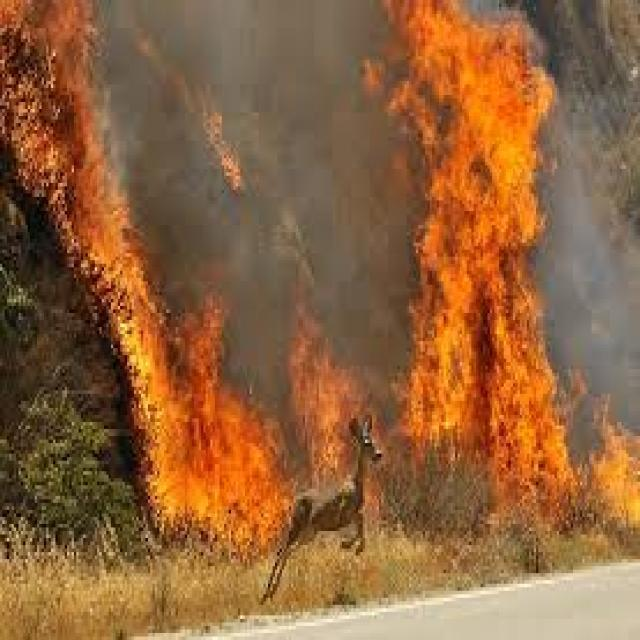Fire: (402, 5, 562, 487), (136, 314, 276, 554), (9, 8, 107, 228), (289, 313, 363, 487), (574, 424, 640, 526), (90, 236, 146, 306)
Smoke: (150, 12, 370, 288), (573, 170, 638, 386)
